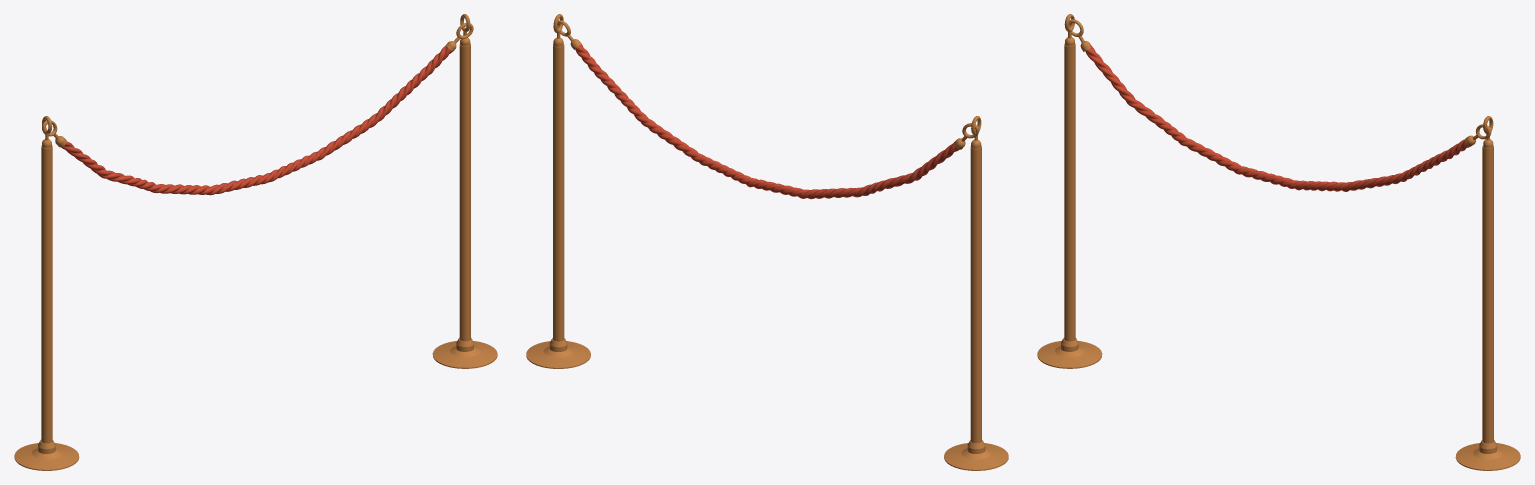
File: Absperrkordel.fbx
The picture shows the model from 3 angles, left to right: view 1: azimuth 30°, elevation 25°; view 2: azimuth 150°, elevation 25°; view 3: azimuth 330°, elevation 25°; orthographic projection.
Parts seen in each view (by area): view 1: Cylinder.004; view 2: Cylinder.004; view 3: Cylinder.004.
Boxes of the visible parts, bbox=[...] form: Cylinder.004: bbox=[14, 14, 497, 470]; Cylinder.004: bbox=[526, 14, 1008, 470]; Cylinder.004: bbox=[1037, 14, 1520, 470].
Size of the model in its own units: 160 by 110 by 18.98.
